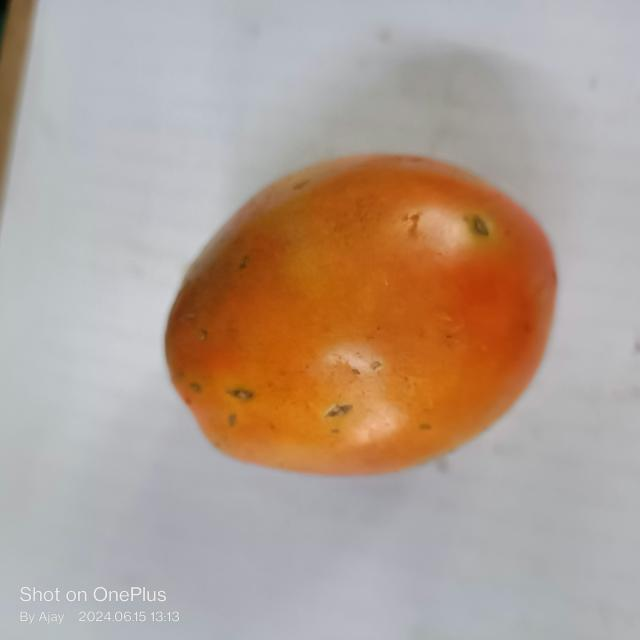Bacterial_Spot: (220, 381, 262, 408), (465, 210, 495, 244), (322, 400, 359, 422)
